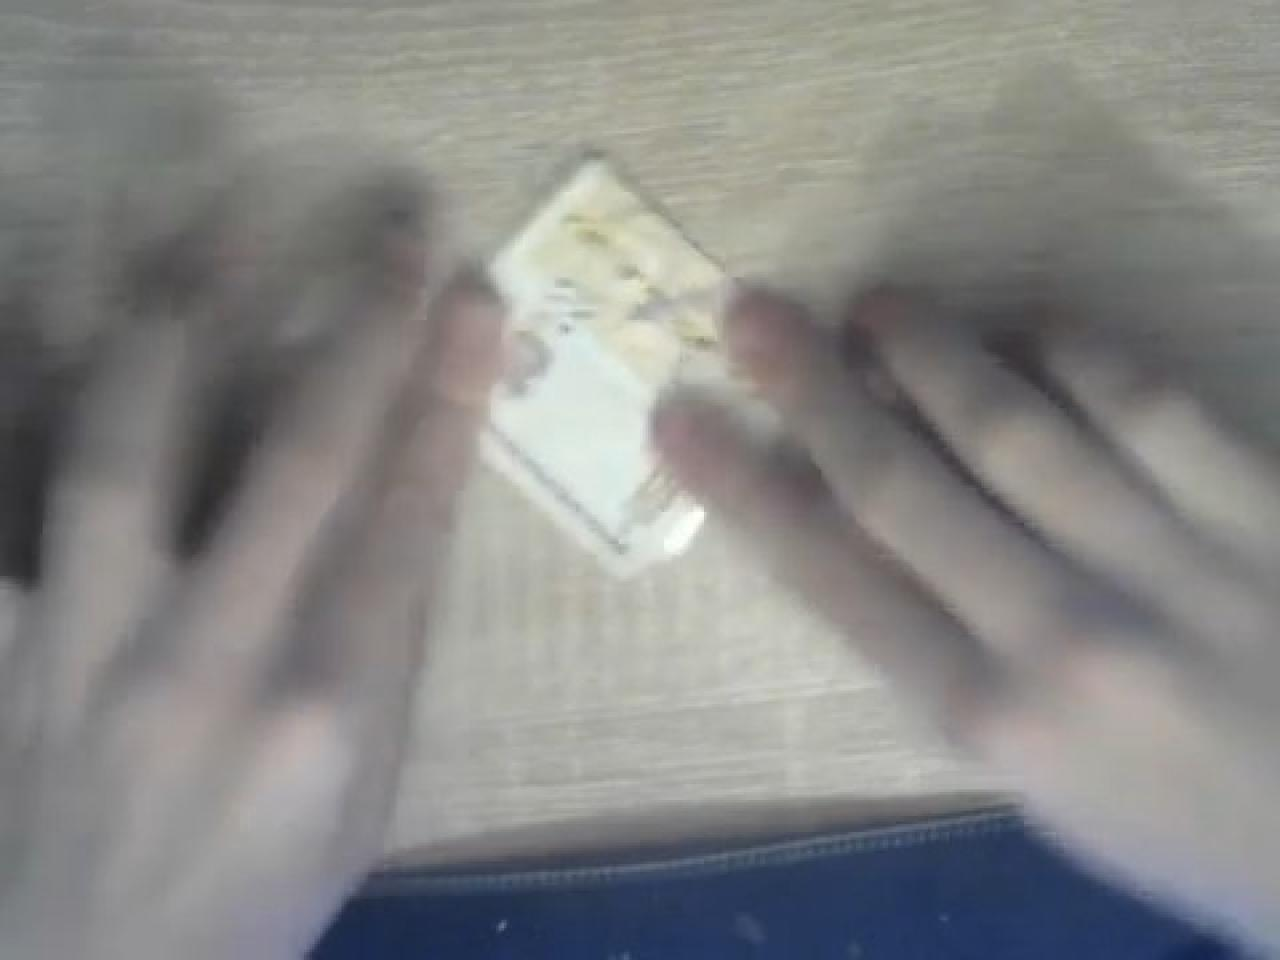10leva: (480, 149, 731, 576)
